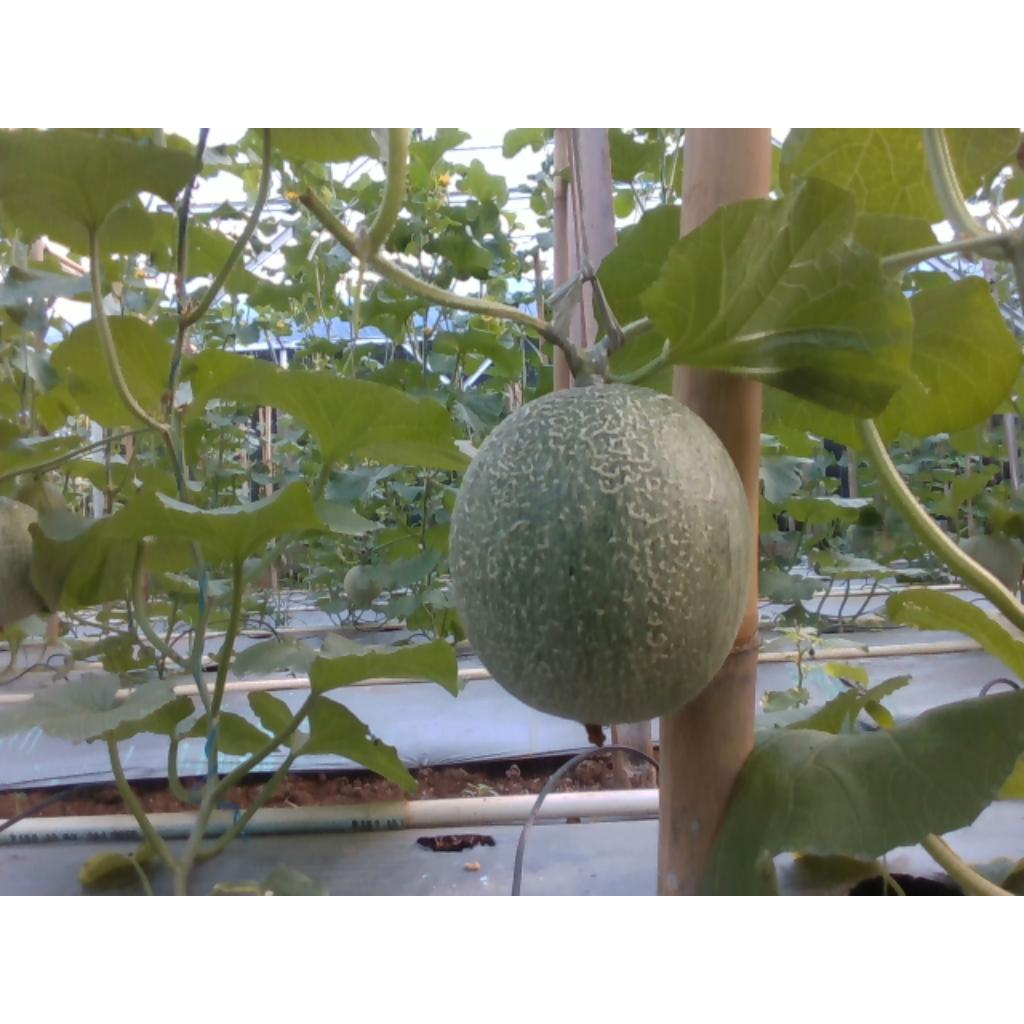melon: (453, 384, 752, 724)
